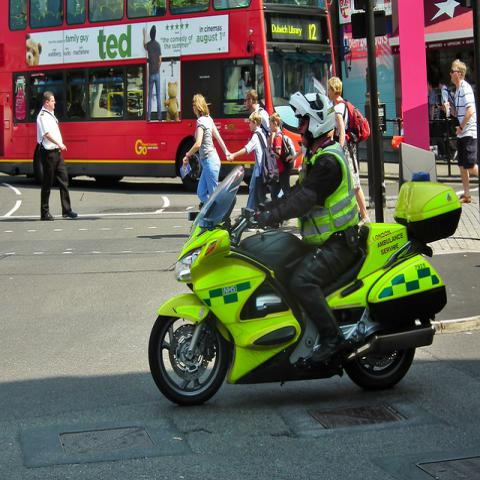bus: (0, 1, 340, 180)
motorcycle: (146, 167, 466, 409)
